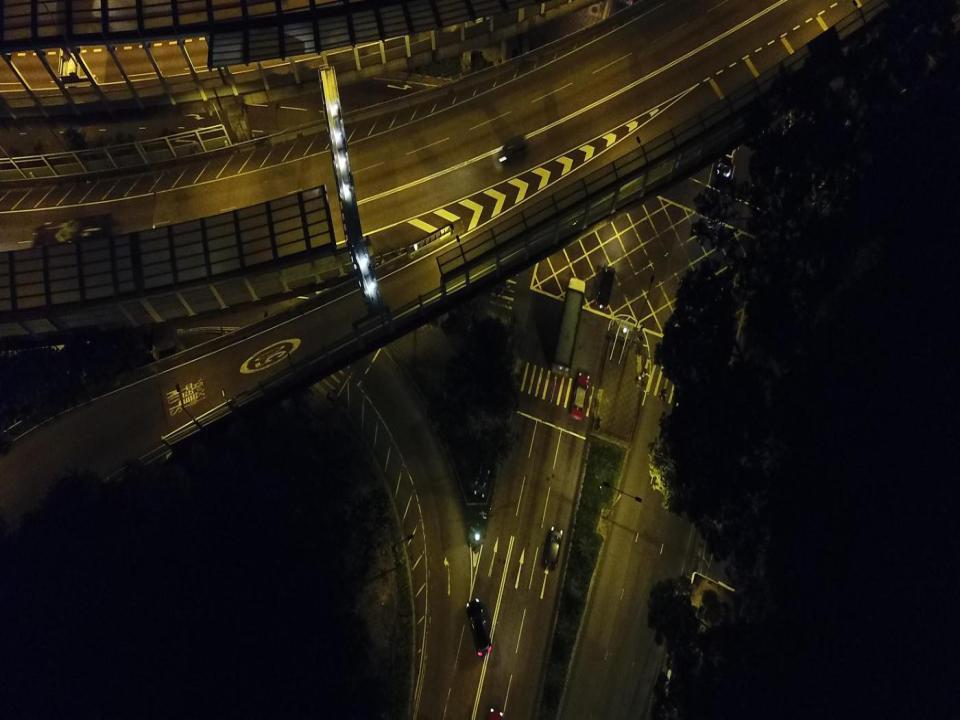car: (466, 599, 492, 656), (714, 131, 738, 179), (570, 370, 590, 421), (595, 264, 616, 311), (543, 526, 564, 570), (500, 132, 530, 160)
truck: (550, 278, 586, 378)
